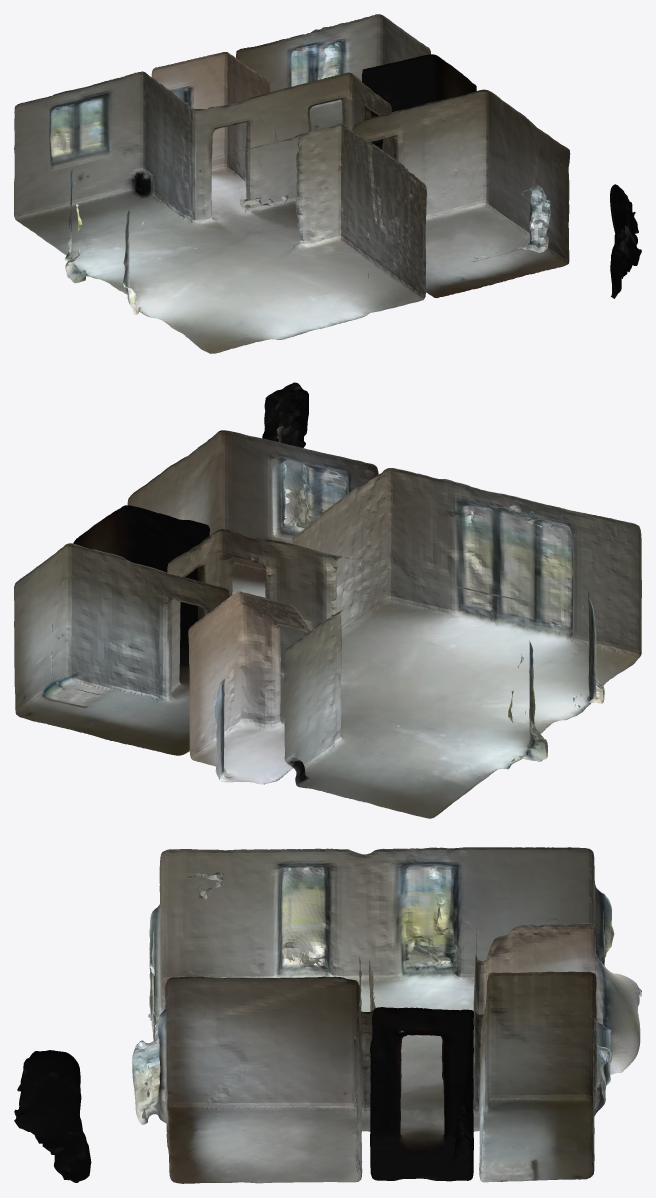
The model's file is Sep 24, 06_09 PM (1).glb.
3 views of the same model, one above another, from view 1: azimuth 30°, elevation 25°; view 2: azimuth 150°, elevation 25°; view 3: azimuth 270°, elevation 25° (orthographic). The views are drawn at different scales.
Size of the model in its own units: 9.75 by 3.01 by 11.77.
Materials: 1 (1 with a texture image).
